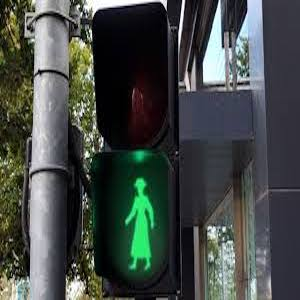green: (120, 172, 168, 271)
